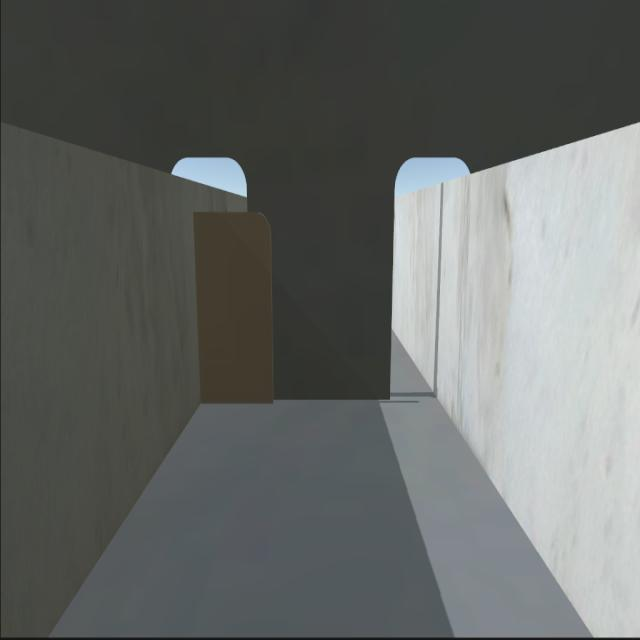fillet_yong_jeop_jang: (196, 400, 394, 407)
longi_yong_jeop_jang: (193, 221, 198, 408)
plate_CP05: (192, 215, 270, 399)
